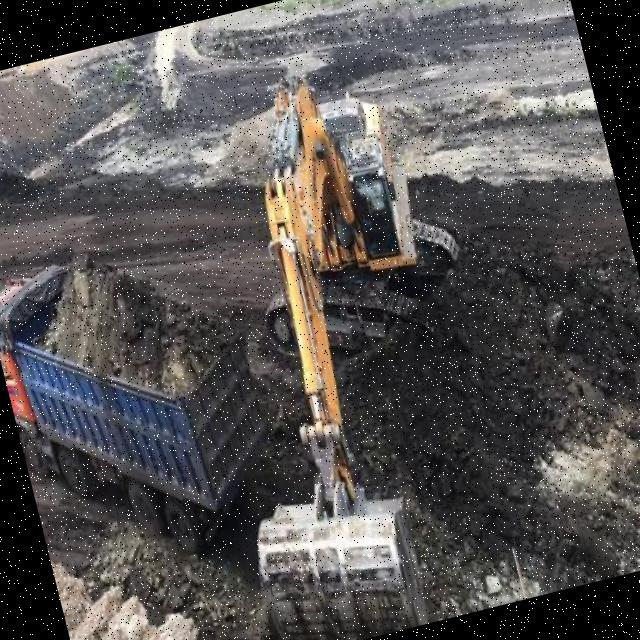Dump Truck: (0, 219, 292, 587)
Excavator: (141, 42, 546, 640)
